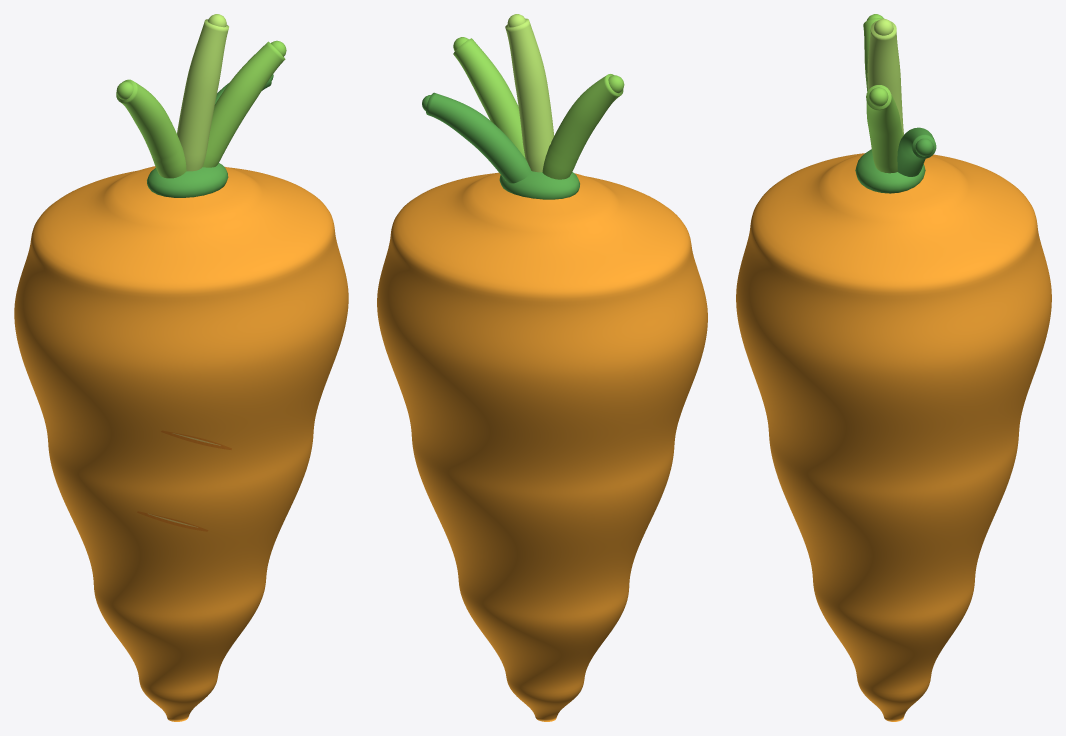
File: Crop_Carrot_Normal_v001_reference_r03.fbx
3 views of the same model, side by side, from view 1: azimuth 30°, elevation 25°; view 2: azimuth 150°, elevation 25°; view 3: azimuth 270°, elevation 25° (orthographic). The views are drawn at different scales.
Visible parts, largest first — view 1: Crop_Carrot_Normal_v001_Body_Reference_r03, LeafStem_CenterTall_Reference_r03, LeafStem_RightTall_Reference_r03, LeafStem_LeftBack_Reference_r03, LeafStem_GlossyRootKnot_Reference_r03; view 2: Crop_Carrot_Normal_v001_Body_Reference_r03, LeafStem_CenterTall_Reference_r03, LeafStem_RightLow_Reference_r03, LeafStem_LeftBack_Reference_r03, LeafStem_RightTall_Reference_r03, LeafStem_GlossyRootKnot_Reference_r03; view 3: Crop_Carrot_Normal_v001_Body_Reference_r03, LeafStem_RightTall_Reference_r03, LeafStem_CenterTall_Reference_r03, LeafStem_GlossyRootKnot_Reference_r03, LeafStem_RightLow_Reference_r03.
Boxes of the visible parts, x1,y1,x2,y2 form: Crop_Carrot_Normal_v001_Body_Reference_r03: (14,166,348,721); LeafStem_CenterTall_Reference_r03: (177,19,228,171); LeafStem_RightTall_Reference_r03: (203,41,285,167); LeafStem_LeftBack_Reference_r03: (116,79,186,178); LeafStem_GlossyRootKnot_Reference_r03: (147,163,228,197); Crop_Carrot_Normal_v001_Body_Reference_r03: (377,172,707,721); LeafStem_CenterTall_Reference_r03: (505,18,554,172); LeafStem_RightLow_Reference_r03: (426,92,531,183); LeafStem_LeftBack_Reference_r03: (542,74,623,179); LeafStem_RightTall_Reference_r03: (453,38,525,157); LeafStem_GlossyRootKnot_Reference_r03: (499,171,579,199); Crop_Carrot_Normal_v001_Body_Reference_r03: (736,153,1051,721); LeafStem_RightTall_Reference_r03: (866,85,902,173); LeafStem_CenterTall_Reference_r03: (867,21,903,135); LeafStem_GlossyRootKnot_Reference_r03: (855,149,925,193); LeafStem_RightLow_Reference_r03: (897,127,936,176).
Size of the model in its own units: 120 by 271 by 108.
